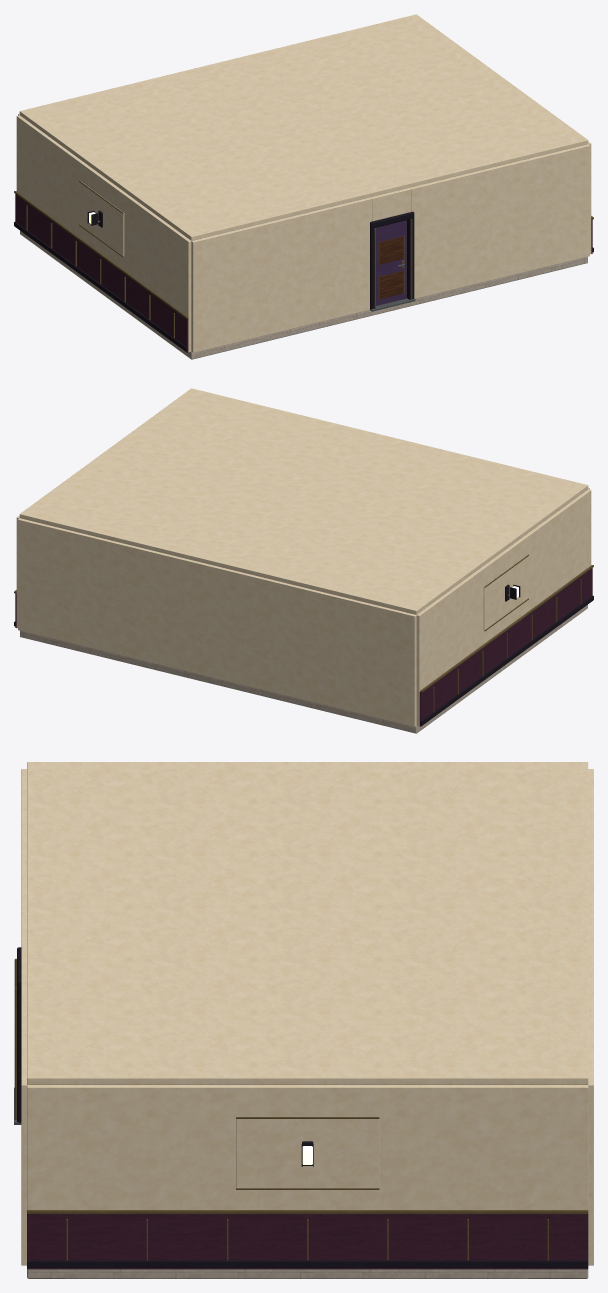
Rendered from explore3d__central_control.glb.
3 renders of one model, top to bottom at view 1: azimuth 30°, elevation 25°; view 2: azimuth 150°, elevation 25°; view 3: azimuth 270°, elevation 25°, orthographic. The views are drawn at different scales.
Visible parts, largest first — view 1: ceiling_surface.006, front_wall.020, front_wall.018, left_wall.022, left_wainscot.014, floor.006, left_upper_inset.014, central_control_leaf, left_skirt.014, front_wall.019, left_rail.014, central_control_jamb.001 (+2 smaller); view 2: ceiling_surface.006, back_wall.013, left_wall.022, left_wainscot.014, floor.006, left_upper_inset.014, left_skirt.014, left_rail.014; view 3: ceiling_surface.006, right_wall.022, right_wainscot.014, right_upper_inset.014, floor.006, right_skirt.014, back_wall.013, right_rail.014, front_wall.018, front_wall.020, central_control_jamb.001.
Part boxes in pixels (x1,y1,x2,y2): ceiling_surface.006: [19, 14, 588, 240]; front_wall.020: [191, 197, 371, 352]; front_wall.018: [409, 144, 589, 298]; left_wall.022: [16, 115, 191, 352]; left_wainscot.014: [15, 194, 188, 352]; floor.006: [20, 231, 587, 359]; left_upper_inset.014: [79, 182, 124, 256]; central_control_leaf: [376, 220, 406, 305]; left_skirt.014: [14, 221, 187, 351]; front_wall.019: [370, 188, 410, 221]; left_rail.014: [14, 191, 187, 318]; central_control_jamb.001: [407, 216, 414, 299]; ceiling_surface.006: [19, 388, 588, 614]; back_wall.013: [18, 518, 416, 726]; left_wall.022: [416, 489, 591, 726]; left_wainscot.014: [419, 568, 592, 726]; floor.006: [20, 605, 587, 733]; left_upper_inset.014: [483, 556, 528, 630]; left_skirt.014: [420, 595, 593, 725]; left_rail.014: [420, 565, 593, 692]; ceiling_surface.006: [27, 762, 588, 1084]; right_wall.022: [27, 1085, 588, 1209]; right_wainscot.014: [27, 1214, 588, 1269]; right_upper_inset.014: [236, 1119, 379, 1188]; floor.006: [27, 1269, 588, 1278]; right_skirt.014: [27, 1260, 588, 1267]; back_wall.013: [588, 769, 593, 1265]; right_rail.014: [27, 1210, 588, 1213]; front_wall.018: [21, 942, 26, 1265]; front_wall.020: [21, 769, 26, 911]; central_control_jamb.001: [17, 986, 21, 1122].
Bounding box in the file's own units: 12.96 × 3.56 × 9.3.
Materials: 14 (12 with a texture image).
